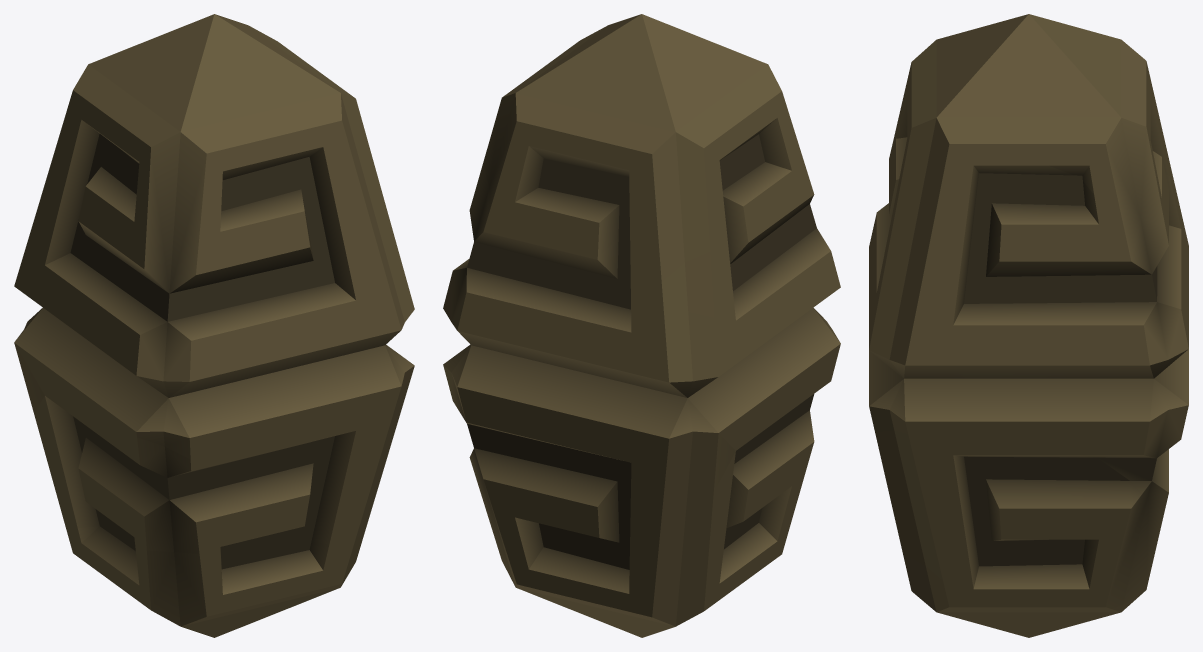
The model's file is Totem_Piece_01.fbx.
3 views of the same model, side by side, from view 1: azimuth 30°, elevation 25°; view 2: azimuth 150°, elevation 25°; view 3: azimuth 270°, elevation 25° (orthographic).
Visible parts, largest first — view 1: Totem_Piece_04, Totem_Piece_02, Totem_Piece_05, Totem_Piece_01, Totem_Piece_03; view 2: Totem_Piece_03, Totem_Piece_05, Totem_Piece_02, Totem_Piece_04, Totem_Piece_01; view 3: Totem_Piece_04, Totem_Piece_02, Totem_Piece_05, Totem_Piece_03, Totem_Piece_01.
Part boxes in pixels (<box>): Totem_Piece_04: <box>29,74,414,459</box>; Totem_Piece_02: <box>34,344,410,553</box>; Totem_Piece_05: <box>46,14,322,178</box>; Totem_Piece_01: <box>65,524,363,637</box>; Totem_Piece_03: <box>14,235,112,412</box>; Totem_Piece_03: <box>443,263,777,521</box>; Totem_Piece_05: <box>483,14,768,282</box>; Totem_Piece_02: <box>469,334,839,604</box>; Totem_Piece_04: <box>464,23,840,349</box>; Totem_Piece_01: <box>508,483,802,637</box>; Totem_Piece_04: <box>869,37,1174,433</box>; Totem_Piece_02: <box>875,379,1167,609</box>; Totem_Piece_05: <box>946,14,1170,228</box>; Totem_Piece_03: <box>994,184,1188,499</box>; Totem_Piece_01: <box>903,553,1133,637</box>.
Bounding box in the file's own units: 28.09 × 60.46 × 28.09.
